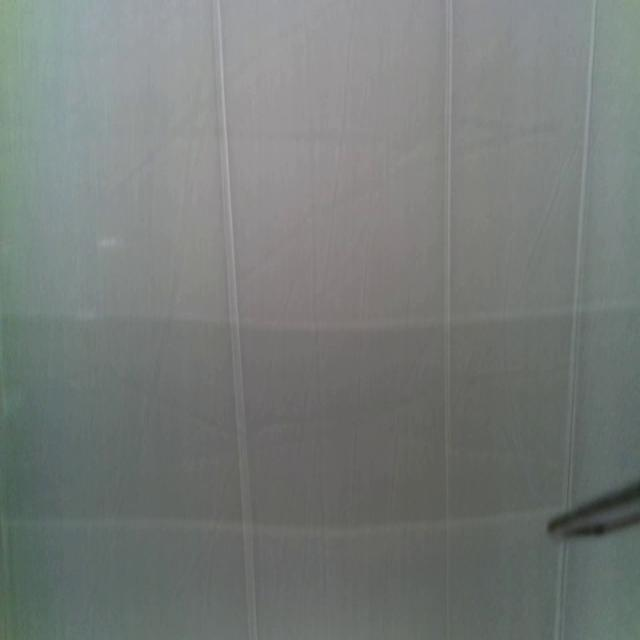color bleeding: (0, 296, 550, 531)
crease: (213, 0, 257, 638), (565, 0, 599, 497), (443, 0, 456, 640), (555, 542, 571, 640)
